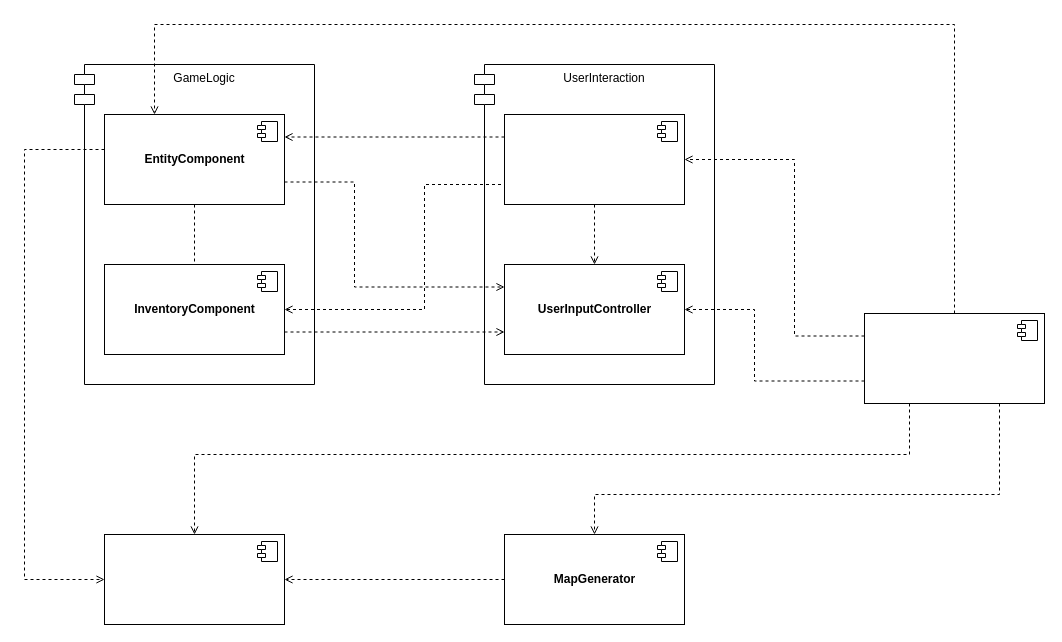
The diagram is 1062 pixels wide and 642 high, and some of its shapes have lost their labels. The shapes that lost their labels are listed below. From the top down, each one's centre as x and y in pixels, then its label:
At [594,159]: "UI".
At [954,358]: "GameLauncher".
At [194,579]: "Engine".
